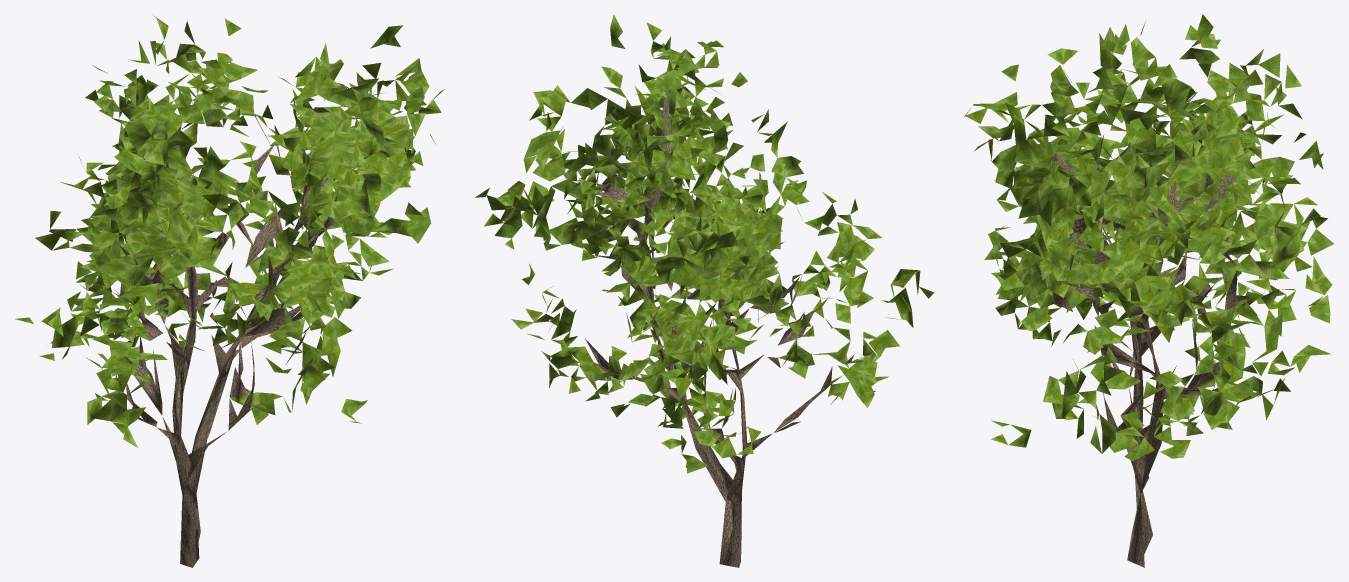
Rendered from Low_poly_tree_2.glb.
The picture shows the model from 3 angles, left to right: view 1: azimuth 30°, elevation 25°; view 2: azimuth 150°, elevation 25°; view 3: azimuth 270°, elevation 25°; orthographic projection. The views are drawn at different scales.
Visible parts, largest first — view 1: Tree_LOD_3; view 2: Tree_LOD_3; view 3: Tree_LOD_3.
Boxes of the visible parts, x1=… form: Tree_LOD_3: x1=15, y1=15, x2=444, y2=567; Tree_LOD_3: x1=475, y1=14, x2=934, y2=567; Tree_LOD_3: x1=964, y1=14, x2=1333, y2=567.
Size of the model in its own units: 8.28 by 9.54 by 5.68.
2 materials, 2 textured.
